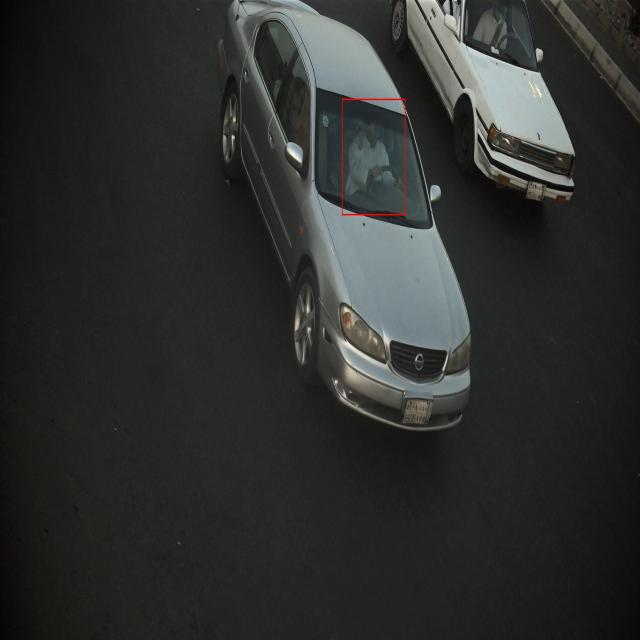windshield: (315, 82, 435, 231), (464, 0, 540, 76)
